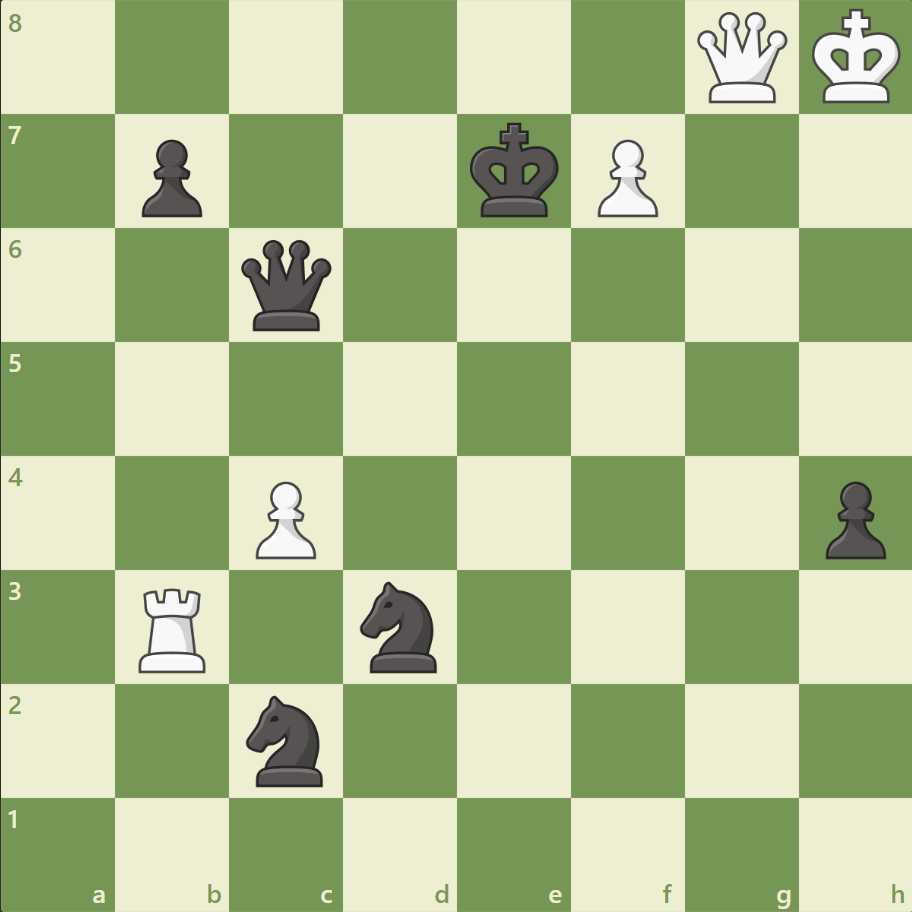K: (806, 4, 906, 112)
P: (247, 473, 322, 564), (588, 132, 662, 223)
Q: (691, 9, 790, 108)
R: (133, 579, 215, 676)
k: (465, 117, 565, 225)
n: (351, 575, 449, 677), (238, 688, 335, 791)
p: (133, 132, 208, 223), (815, 473, 889, 564)
q: (237, 236, 336, 335)
